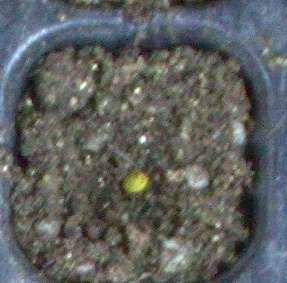chilli seed: (121, 168, 148, 193)
